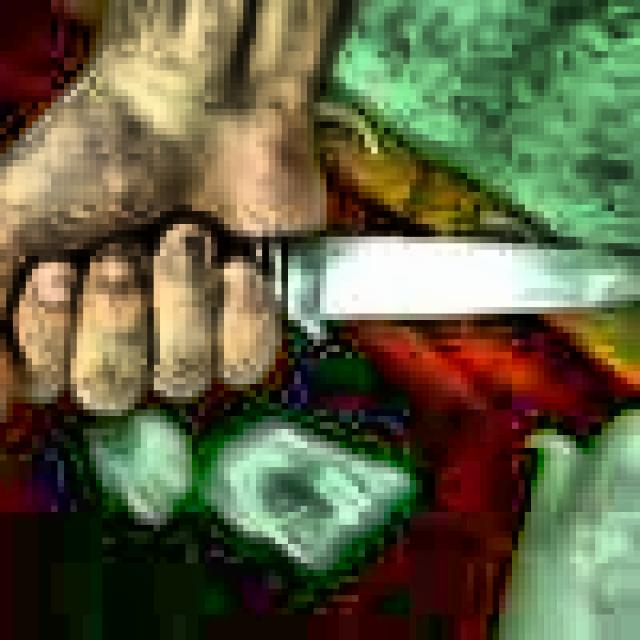knife: (227, 240, 634, 340)
